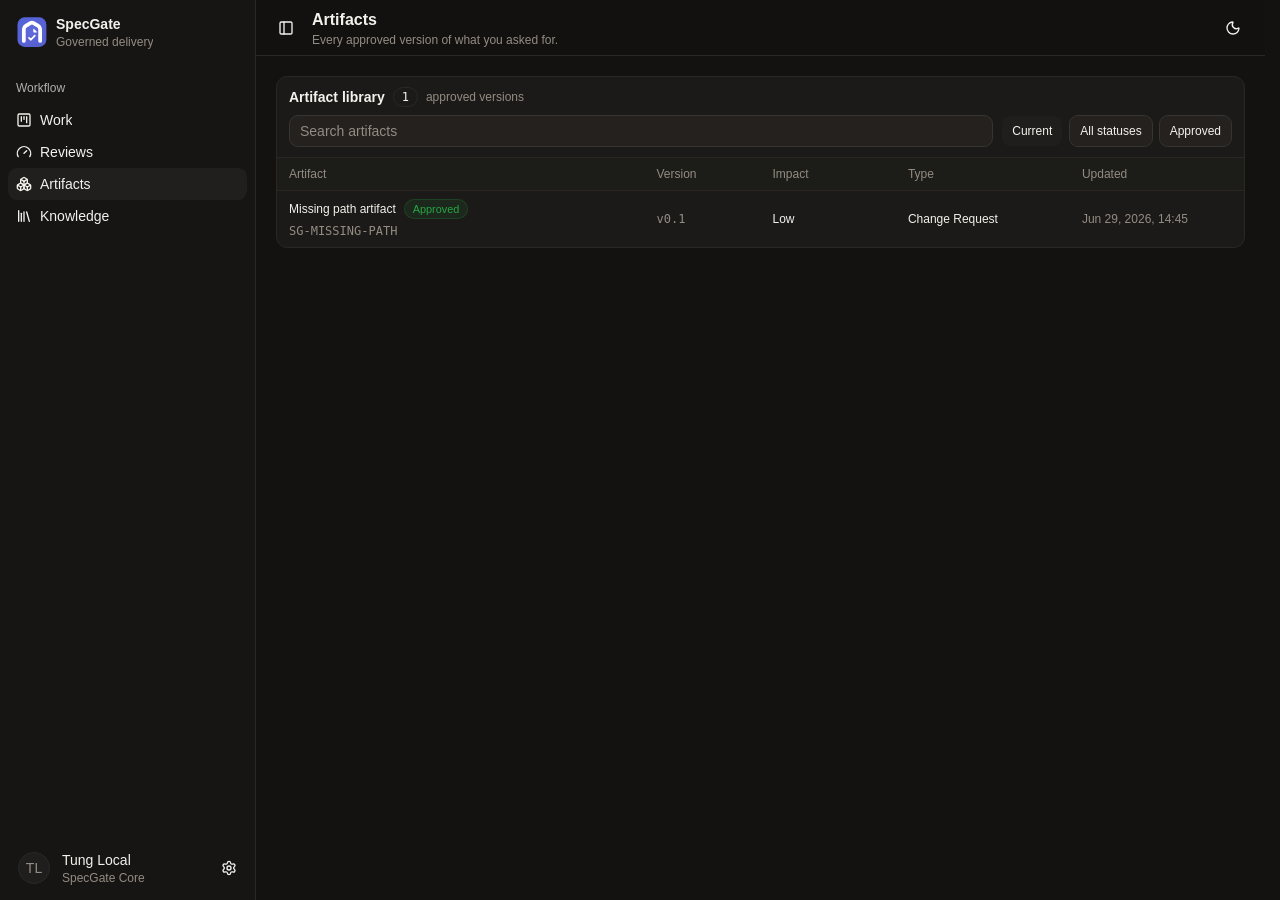
Test: SpecGate UI shell: artifact evidence › does not synthesize live artifact document rows without registry paths
Expected: the text "Missing path artifact" is shown, [289, 201, 396, 217]
Click the button "Missing path artifact Approved SG-MISSING-PATH".
click(379, 219)  # box [289, 199, 468, 239]
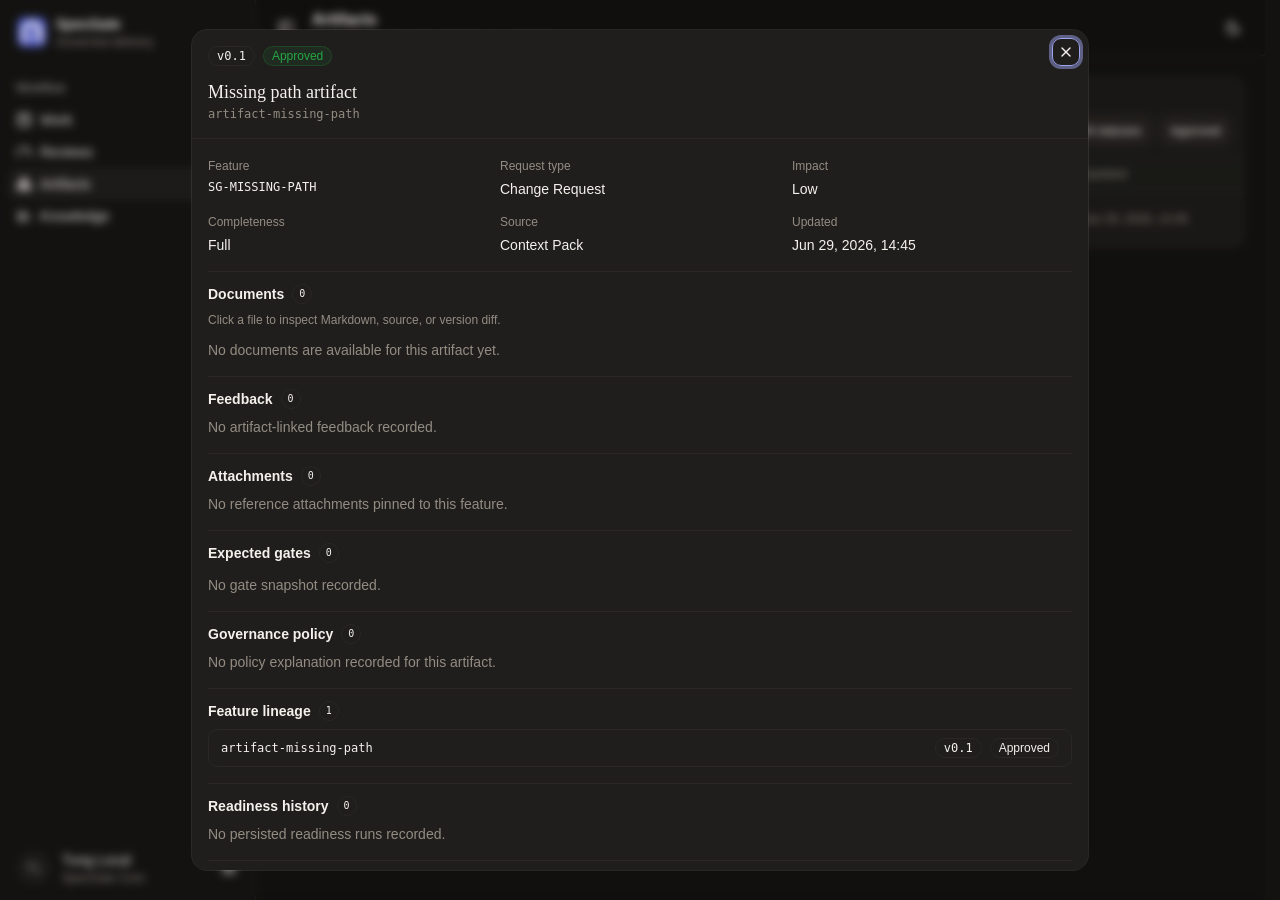
Result: the text "No documents are available for this artifact yet." is shown at [208, 342, 500, 358]
